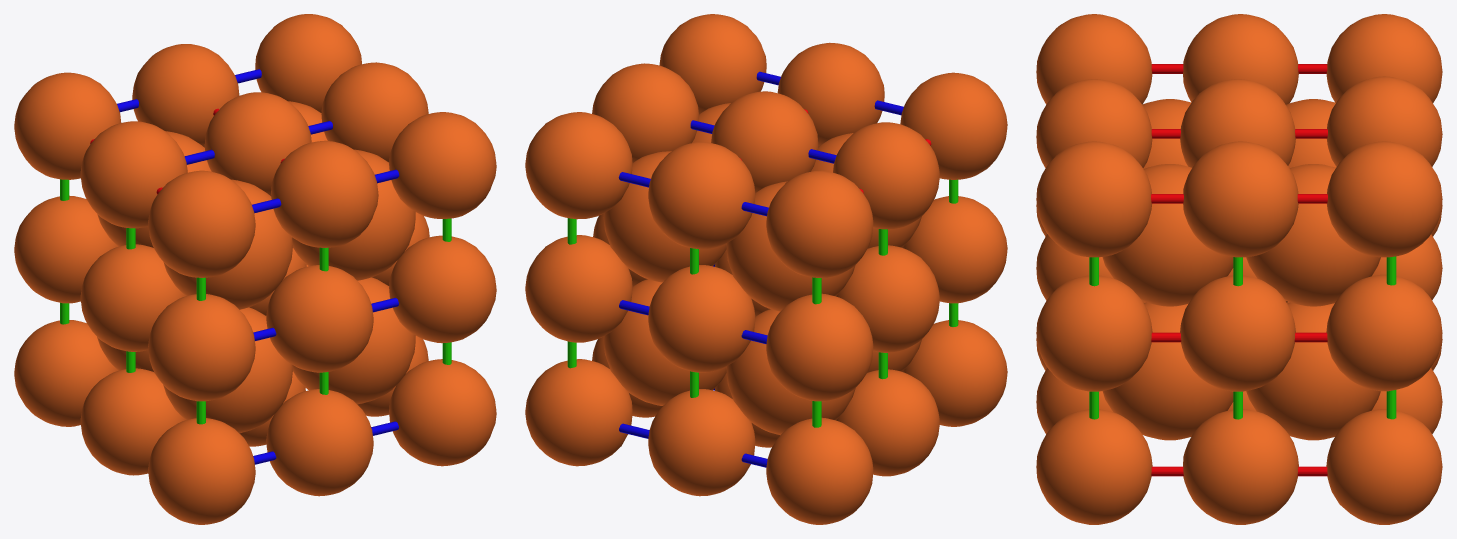
Rendered from empaquetamiento centrado en el cuerpo.glb.
3 views of the same model, side by side, from view 1: azimuth 30°, elevation 25°; view 2: azimuth 150°, elevation 25°; view 3: azimuth 270°, elevation 25° (orthographic). The views are drawn at different scales.
Visible parts, largest first — view 1: Sphere.334_Sphere.276, Sphere.333_Sphere.275, Sphere.329_Sphere.269, Sphere.328_Sphere.267, Sphere.324_Sphere.262, Sphere.320_Sphere.258, Sphere.332_Sphere.274, Sphere.323_Sphere.261, Sphere.319_Sphere.257, Sphere.337_Sphere.279, Sphere.317_Sphere.255, Sphere.336_Sphere.278 (+16 smaller); view 2: Sphere.317_Sphere.255, Sphere.315_Sphere.253, Sphere.307_Sphere.245, Sphere.311_Sphere.249, Sphere.316_Sphere.254, Sphere.310_Sphere.248, Sphere.314_Sphere.252, Sphere.304_Sphere.242, Sphere.306_Sphere.244, Sphere.334_Sphere.276, Sphere.337_Sphere.279, Sphere.333_Sphere.275 (+16 smaller); view 3: Sphere.328_Sphere.267, Sphere.330_Sphere.271, Sphere.311_Sphere.249, Sphere.320_Sphere.258, Sphere.310_Sphere.248, Sphere.319_Sphere.257, Sphere.303_Sphere.241, Sphere.321_Sphere.259, Sphere.304_Sphere.242, Sphere.331_Sphere.273, Sphere.312_Sphere.250, Sphere.305_Sphere.243 (+13 smaller).
Part boxes in pixels (bbox=[...]): Sphere.334_Sphere.276: bbox=[148, 170, 255, 277]; Sphere.333_Sphere.275: bbox=[148, 294, 255, 401]; Sphere.329_Sphere.269: bbox=[271, 140, 378, 247]; Sphere.328_Sphere.267: bbox=[389, 112, 496, 218]; Sphere.324_Sphere.262: bbox=[148, 418, 255, 524]; Sphere.320_Sphere.258: bbox=[389, 235, 496, 343]; Sphere.332_Sphere.274: bbox=[266, 265, 373, 372]; Sphere.323_Sphere.261: bbox=[266, 389, 373, 496]; Sphere.319_Sphere.257: bbox=[389, 359, 496, 466]; Sphere.337_Sphere.279: bbox=[80, 121, 187, 228]; Sphere.317_Sphere.255: bbox=[14, 72, 121, 179]; Sphere.336_Sphere.278: bbox=[80, 244, 185, 351]; Sphere.317_Sphere.255: bbox=[766, 170, 873, 277]; Sphere.315_Sphere.253: bbox=[766, 293, 873, 401]; Sphere.307_Sphere.245: bbox=[766, 417, 873, 524]; Sphere.311_Sphere.249: bbox=[525, 112, 632, 219]; Sphere.316_Sphere.254: bbox=[648, 142, 755, 249]; Sphere.310_Sphere.248: bbox=[525, 235, 632, 342]; Sphere.314_Sphere.252: bbox=[648, 265, 755, 372]; Sphere.304_Sphere.242: bbox=[525, 359, 632, 466]; Sphere.306_Sphere.244: bbox=[648, 389, 755, 496]; Sphere.334_Sphere.276: bbox=[900, 72, 1007, 179]; Sphere.337_Sphere.279: bbox=[833, 122, 939, 229]; Sphere.333_Sphere.275: bbox=[902, 196, 1007, 303]; Sphere.328_Sphere.267: bbox=[1036, 141, 1151, 257]; Sphere.330_Sphere.271: bbox=[1183, 141, 1298, 257]; Sphere.311_Sphere.249: bbox=[1327, 141, 1442, 257]; Sphere.320_Sphere.258: bbox=[1036, 275, 1152, 391]; Sphere.310_Sphere.248: bbox=[1326, 274, 1442, 391]; Sphere.319_Sphere.257: bbox=[1036, 409, 1152, 524]; Sphere.303_Sphere.241: bbox=[1180, 275, 1295, 391]; Sphere.321_Sphere.259: bbox=[1183, 409, 1298, 524]; Sphere.304_Sphere.242: bbox=[1326, 409, 1442, 524]; Sphere.331_Sphere.273: bbox=[1102, 164, 1233, 306]; Sphere.312_Sphere.250: bbox=[1246, 164, 1380, 306]; Sphere.305_Sphere.243: bbox=[1246, 302, 1380, 440].
Size of the model in its own units: 1.39 by 1.37 by 1.35.
